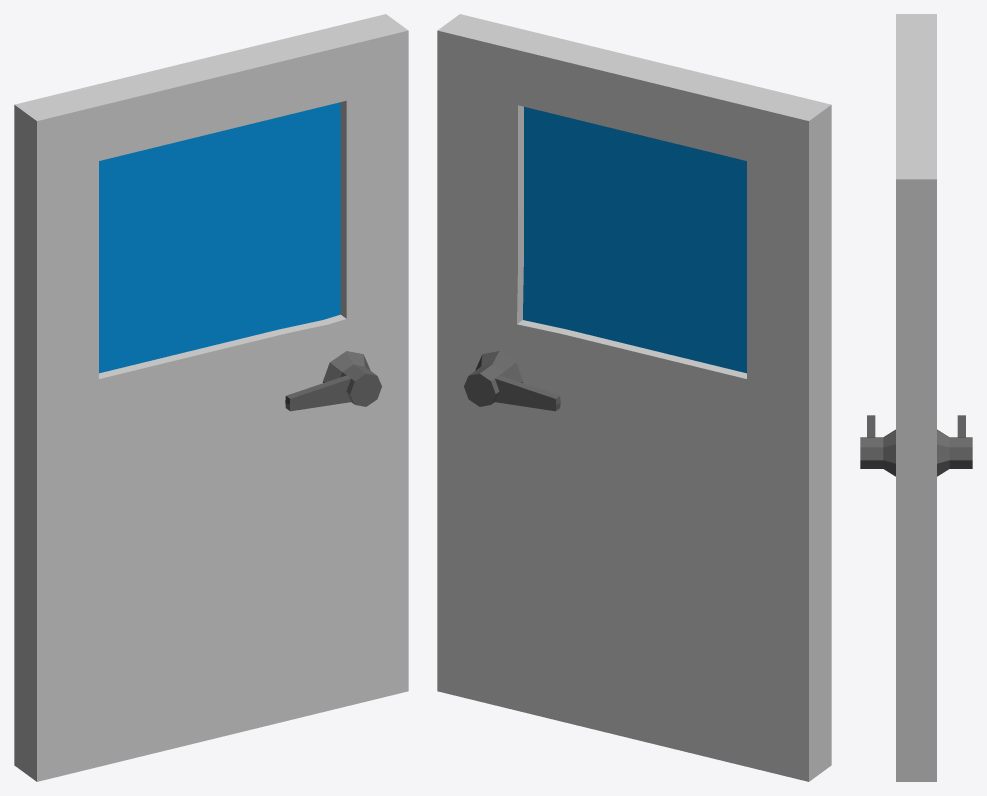
File: Bathroom_Door.fbx
3 views of the same model, side by side, from view 1: azimuth 30°, elevation 25°; view 2: azimuth 150°, elevation 25°; view 3: azimuth 270°, elevation 25° (orthographic). The views are drawn at different scales.
Visible parts, largest first — view 1: pCube1; view 2: pCube1; view 3: pCube1.
Part boxes in pixels (box(x1,y1,x2,y2)): pCube1: box(14, 14, 408, 781); pCube1: box(437, 14, 831, 781); pCube1: box(860, 14, 972, 781).
Bounding box in the file's own units: 3.38 × 5.75 × 0.9725.
